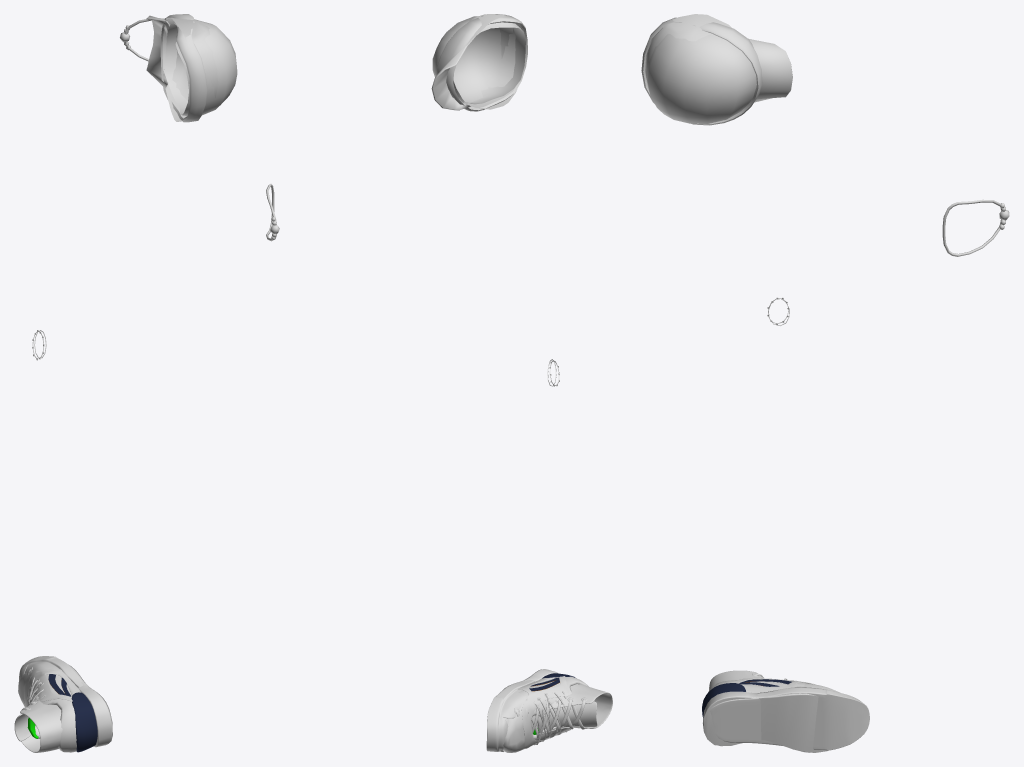
The model's file is Complementos.fbx.
3 renders of one model, left to right at view 1: azimuth 30°, elevation 25°; view 2: azimuth 150°, elevation 25°; view 3: azimuth 270°, elevation 25°, orthographic. The views are drawn at different scales.
Visible parts, largest first — view 1: Gorro, Bambas, Zapatillas, Gorra; view 2: Gorra, Zapatillas, Gorro, Bambas; view 3: Gorro, Zapatillas, Bambas, Gorra, Collar02.
Boxes of the visible parts, x1,y1,x2,y2 form: Gorro: [160, 14, 237, 122]; Bambas: [18, 665, 112, 752]; Zapatillas: [14, 656, 90, 752]; Gorra: [146, 15, 218, 121]; Gorra: [431, 14, 522, 110]; Zapatillas: [486, 677, 612, 751]; Gorro: [432, 14, 527, 111]; Bambas: [499, 669, 594, 752]; Gorro: [641, 17, 762, 125]; Zapatillas: [709, 670, 869, 750]; Bambas: [702, 678, 827, 752]; Gorra: [646, 14, 792, 102]; Collar02: [942, 199, 1009, 256].
Size of the model in its own units: 57.71 by 66.69 by 154.
